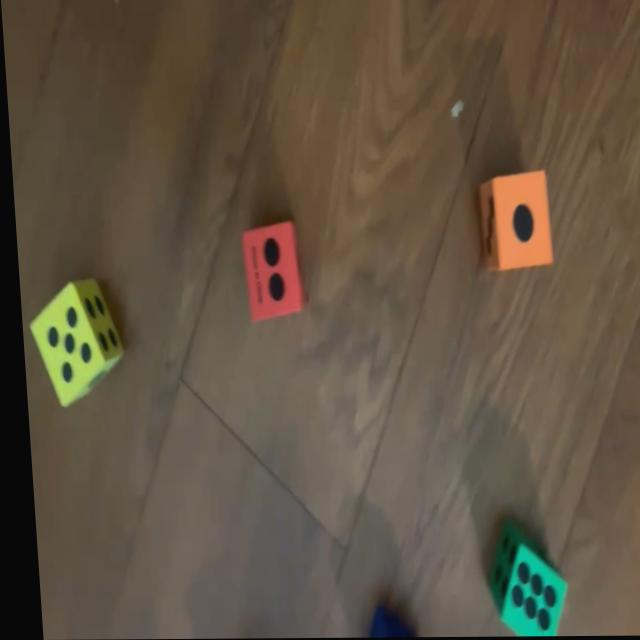blue_block: (356, 605, 400, 638)
red_block: (236, 220, 303, 324)
